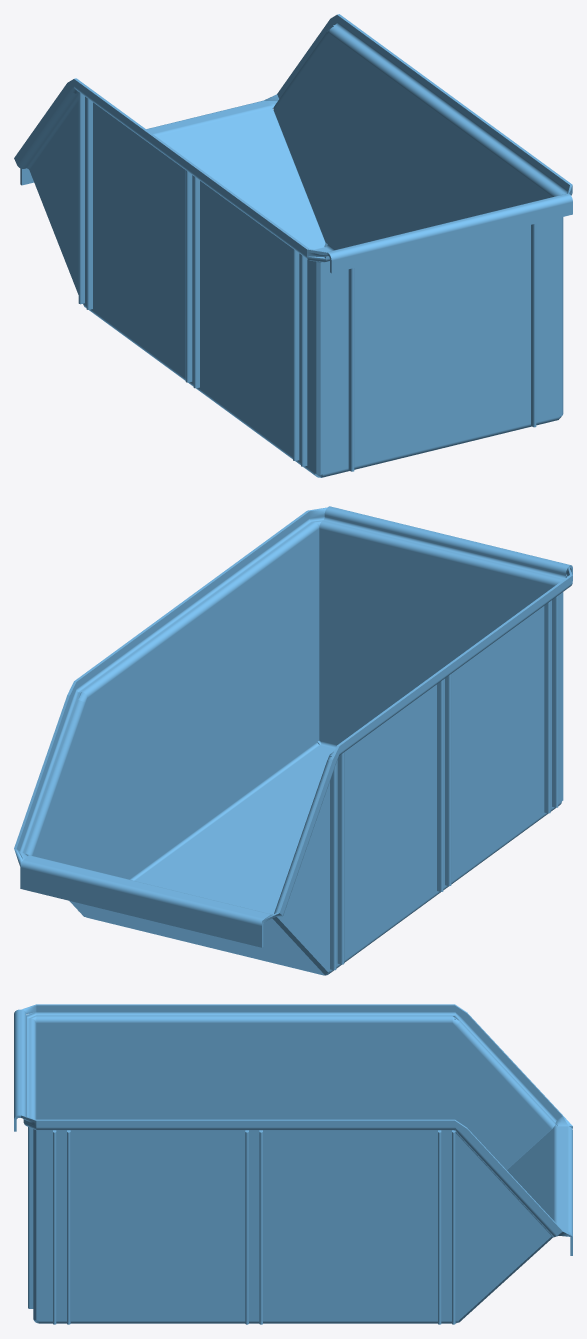
Rendered from BacLarge.fbx.
3 views of the same model, one above another, from view 1: azimuth 30°, elevation 25°; view 2: azimuth 150°, elevation 25°; view 3: azimuth 270°, elevation 25° (orthographic). The views are drawn at different scales.
Parts seen in each view (by area): view 1: BacLarge; view 2: BacLarge; view 3: BacLarge.
Boxes of the visible parts, x1,y1,x2,y2 form: BacLarge: (14,14,572,477); BacLarge: (14,506,572,975); BacLarge: (14,1004,572,1324).
Size of the model in its own units: 15.6 by 13.05 by 31.65.
